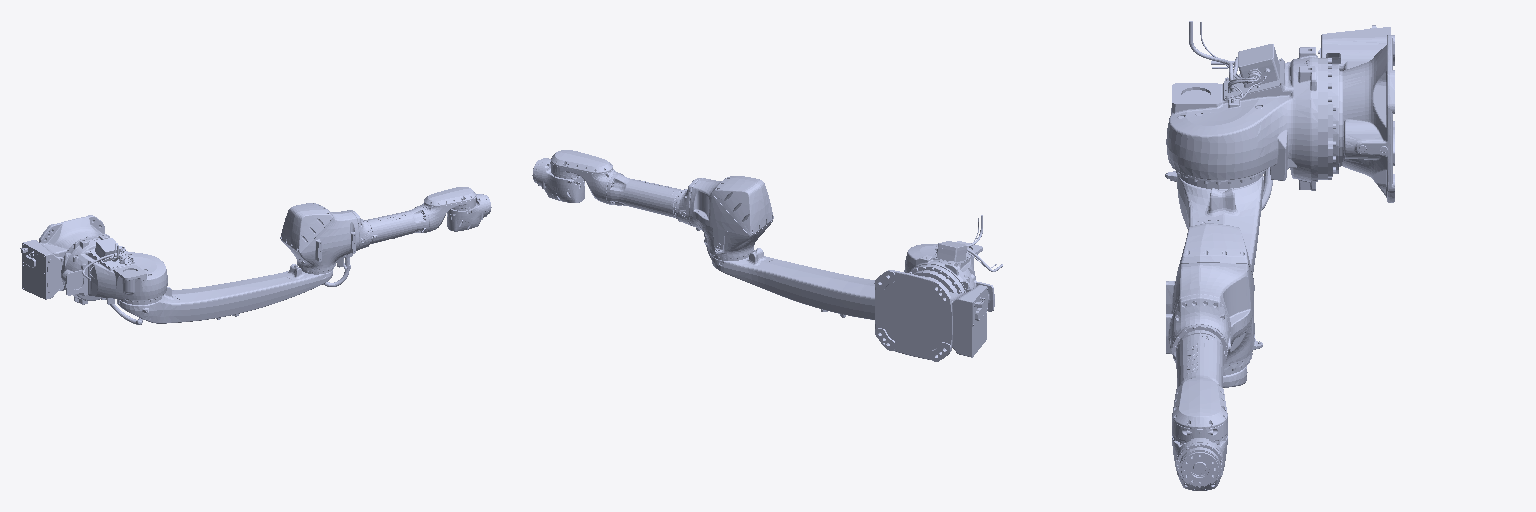
The robot description file, URDF, robot "kr_50_r2500":
<?xml version="1.0" ?>
<!-- =================================================================================== -->
<!-- |    This document was autogenerated by xacro from [local-path]/projects/personal_ws/src/kr_50_r2500/kr_50_r2500_description/urdf/kr_50_r2500_pybullet.xacro | -->
<!-- |    EDITING THIS FILE BY HAND IS NOT RECOMMENDED                                 | -->
<!-- =================================================================================== -->
<!-- It is required to pass the args: robot_name-->
<robot name="kr_50_r2500">
  <!-- -350° -->
  <!--  360°/s -->
  <link name="base_link">
    <inertial>
      <origin rpy="0 0 0" xyz="-0.080585 0.00067592 0.086754"/>
      <mass value="30.385"/>
      <inertia ixx="0.38941" ixy="0.0047083" ixz="0.060696" iyy="0.87424" iyz="-0.00029206" izz="1.0819"/>
    </inertial>
    <visual>
      <origin rpy="0 0 0" xyz="0 0 0"/>
      <geometry>
        <mesh filename="package://kr_50_r2500_description/meshes/base_link.STL"/>
      </geometry>
      <material name="">
        <color rgba="0.79216 0.81961 0.93333 1"/>
      </material>
    </visual>
    <collision>
      <origin rpy="0 0 0" xyz="0 0 0"/>
      <geometry>
        <mesh filename="package://kr_50_r2500_description/meshes/base_link.STL"/>
      </geometry>
    </collision>
  </link>
  <link name="link1">
    <inertial>
      <origin rpy="0 0 0" xyz="0.0600446329714386 0.0116665626627102 0.247062352627269"/>
      <mass value="56.0953515273858"/>
      <inertia ixx="1.7123503270672" ixy="0.020886843872196" ixz="-0.525246219592262" iyy="2.15349859010488" iyz="-0.031415061955379" izz="1.31690706549715"/>
    </inertial>
    <visual>
      <origin rpy="0 0 0" xyz="0 0 0"/>
      <geometry>
        <mesh filename="package://kr_50_r2500_description/meshes/link1.STL"/>
      </geometry>
      <material name="">
        <color rgba="0.792156862745098 0.819607843137255 0.933333333333333 1"/>
      </material>
    </visual>
    <collision>
      <origin rpy="0 0 0" xyz="0 0 0"/>
      <geometry>
        <mesh filename="package://kr_50_r2500_description/meshes/link1.STL"/>
      </geometry>
    </collision>
  </link>
  <joint name="joint1" type="revolute">
    <origin rpy="1.5708 0.009141 0" xyz="0 -0.17 0"/>
    <parent link="base_link"/>
    <child link="link1"/>
    <axis xyz="0 0 -1"/>
    <limit effort="10000" lower="-3.22886" upper="3.22886" velocity="3.05433"/>
  </joint>
  <link name="link2">
    <inertial>
      <origin rpy="0 0 0" xyz="0.0040251350126134 -0.177497207044946 0.578963319749875"/>
      <mass value="35.5942562362571"/>
      <inertia ixx="4.47662495992728" ixy="-0.00203441583192867" ixz="0.0769841500591921" iyy="4.49958249588231" iyz="0.214283202316168" izz="0.238618624180958"/>
    </inertial>
    <visual>
      <origin rpy="0 0 0" xyz="0 0 0"/>
      <geometry>
        <mesh filename="package://kr_50_r2500_description/meshes/link2.STL"/>
      </geometry>
      <material name="">
        <color rgba="0.792156862745098 0.819607843137255 0.933333333333333 1"/>
      </material>
    </visual>
    <collision>
      <origin rpy="0 0 0" xyz="0 0 0"/>
      <geometry>
        <mesh filename="package://kr_50_r2500_description/meshes/link2.STL"/>
      </geometry>
    </collision>
  </link>
  <joint name="joint2" type="revolute">
    <origin rpy="0 1.557055  0" xyz="0.175 -0.074807 0.405"/>
    <parent link="link1"/>
    <child link="link2"/>
    <axis xyz="0 1 0"/>
    <limit effort="10000" lower="-3.05433" upper="1.0472" velocity="2.75762"/>
  </joint>
  <link name="link3">
    <inertial>
      <origin rpy="0 0 0" xyz="0.0305175734183824 0.097105360534718 0.0162382856824868"/>
      <mass value="36.6784876951283"/>
      <inertia ixx="0.563908772434098" ixy="0.0648382829251099" ixz="-0.0822356915818992" iyy="0.7868662787778" iyz="0.00379928707270628" izz="1.01511384262152"/>
    </inertial>
    <visual>
      <origin rpy="0 0 0" xyz="0 0 0"/>
      <geometry>
        <mesh filename="package://kr_50_r2500_description/meshes/link3.STL"/>
      </geometry>
      <material name="">
        <color rgba="0.792156862745098 0.819607843137255 0.933333333333333 1"/>
      </material>
    </visual>
    <collision>
      <origin rpy="0 0 0" xyz="0 0 0"/>
      <geometry>
        <mesh filename="package://kr_50_r2500_description/meshes/link3.STL"/>
      </geometry>
    </collision>
  </link>
  <joint name="joint3" type="revolute">
    <origin rpy="0 -1.557055 0" xyz="0 0 1.29"/>
    <parent link="link2"/>
    <child link="link3"/>
    <axis xyz="0 1 0"/>
    <limit effort="10000" lower="-2.0944" upper="2.96706" velocity="3.05433"/>
  </joint>
  <link name="link4">
    <inertial>
      <origin rpy="0 0 0" xyz="0.400085577392824 0.0280533450779974 -6.01461215805621E-05"/>
      <mass value="15.1542881051753"/>
      <inertia ixx="0.0701060691297577" ixy="-0.0990093812478981" ixz="0.00018489912158269" iyy="0.729933929975417" iyz="-2.55452640777306E-05" izz="0.748398699396793"/>
    </inertial>
    <visual>
      <origin rpy="0 0 0" xyz="0 0 0"/>
      <geometry>
        <mesh filename="package://kr_50_r2500_description/meshes/link4.STL"/>
      </geometry>
      <material name="">
        <color rgba="0.792156862745098 0.819607843137255 0.933333333333333 1"/>
      </material>
    </visual>
    <collision>
      <origin rpy="0 0 0" xyz="0 0 0"/>
      <geometry>
        <mesh filename="package://kr_50_r2500_description/meshes/link4.STL"/>
      </geometry>
    </collision>
  </link>
  <joint name="joint4" type="revolute">
    <origin rpy="0 0 0" xyz="0.32687 0.074807 0.05"/>
    <parent link="link3"/>
    <child link="link4"/>
    <axis xyz="1 0 0"/>
    <limit effort="10000" lower="-3.14159" upper="3.14159" velocity="4.36332"/>
  </joint>
  <link name="link5">
    <inertial>
      <origin rpy="0 0 0" xyz="0.0348166227286741 -0.0333672873060013 -7.86869120463773E-05"/>
      <mass value="5.17490767884354"/>
      <inertia ixx="0.0198943557123769" ixy="-0.00379528838423929" ixz="-3.17734786601442E-05" iyy="0.0325404927644558" iyz="2.0392665049925E-05" izz="0.0334468145607699"/>
    </inertial>
    <visual>
      <origin rpy="0 0 0" xyz="0 0 0"/>
      <geometry>
        <mesh filename="package://kr_50_r2500_description/meshes/link5.STL"/>
      </geometry>
      <material name="">
        <color rgba="0.792156862745098 0.819607843137255 0.933333333333333 1"/>
      </material>
    </visual>
    <collision>
      <origin rpy="0 0 0" xyz="0 0 0"/>
      <geometry>
        <mesh filename="package://kr_50_r2500_description/meshes/link5.STL"/>
      </geometry>
    </collision>
  </link>
  <joint name="joint5" type="revolute">
    <origin rpy="0 -0.0 0" xyz="0.708131634616243 0 0"/>
    <parent link="link4"/>
    <child link="link5"/>
    <axis xyz="0 1 0"/>
    <limit effort="10000" lower="-2.18166" upper="2.18166" velocity="4.36332"/>
  </joint>
  <link name="link6">
    <inertial>
      <origin rpy="0 0 0" xyz="0.0697663509698883 -2.97159715269453E-06 -4.15148219581329E-05"/>
      <mass value="0.362972835401582"/>
      <inertia ixx="0.000809216081686161" ixy="9.97029573660496E-10" ixz="2.41841688721677E-07" iyy="0.000440777200154296" iyz="1.15745872636665E-07" izz="0.000441694717362902"/>
    </inertial>
    <visual>
      <origin rpy="0 0 0" xyz="0 0 0"/>
      <geometry>
        <mesh filename="package://kr_50_r2500_description/meshes/link6.STL"/>
      </geometry>
      <material name="">
        <color rgba="0.792156862745098 0.819607843137255 0.933333333333333 1"/>
      </material>
    </visual>
    <collision>
      <origin rpy="0 0 0" xyz="0 0 0"/>
      <geometry>
        <mesh filename="package://kr_50_r2500_description/meshes/link6.STL"/>
      </geometry>
    </collision>
  </link>
  <joint name="joint6" type="revolute">
    <origin rpy="0 0 0" xyz="0.0966663727881543 0 0"/>
    <parent link="link5"/>
    <child link="link6"/>
    <axis xyz="1 0 0"/>
    <limit effort="10000" lower="-6.10865" upper="6.10865" velocity="6.28319"/>
  </joint>
  <joint name="link6_to_flange" type="fixed">
    <origin rpy="0 1.57079632679 0" xyz="0.07 0 0"/>
    <parent link="link6"/>
    <child link="flange"/>
  </joint>
  <link name="flange">
    <inertial>
      <origin rpy="0 0 0" xyz="0 0 0"/>
      <mass value="0.01"/>
      <inertia ixx="0.0001" ixy="0.0000" ixz="0.0000" iyy="0.0001" iyz="0.0000" izz="0.0001"/>
    </inertial>
  </link>
  <transmission name="tran1">
    <type>transmission_interface/SimpleTransmission</type>
    <joint name="joint1">
      <hardwareInterface>hardware_interface/EffortJointInterface</hardwareInterface>
    </joint>
    <actuator name="motor1">
      <mechanicalReduction>1</mechanicalReduction>
    </actuator>
  </transmission>
  <transmission name="tran2">
    <type>transmission_interface/SimpleTransmission</type>
    <joint name="joint2">
      <hardwareInterface>hardware_interface/EffortJointInterface</hardwareInterface>
    </joint>
    <actuator name="motor2">
      <mechanicalReduction>1</mechanicalReduction>
    </actuator>
  </transmission>
  <transmission name="tran3">
    <type>transmission_interface/SimpleTransmission</type>
    <joint name="joint3">
      <hardwareInterface>hardware_interface/EffortJointInterface</hardwareInterface>
    </joint>
    <actuator name="motor3">
      <mechanicalReduction>1</mechanicalReduction>
    </actuator>
  </transmission>
  <transmission name="tran4">
    <type>transmission_interface/SimpleTransmission</type>
    <joint name="joint4">
      <hardwareInterface>hardware_interface/EffortJointInterface</hardwareInterface>
    </joint>
    <actuator name="motor4">
      <mechanicalReduction>1</mechanicalReduction>
    </actuator>
  </transmission>
  <transmission name="tran5">
    <type>transmission_interface/SimpleTransmission</type>
    <joint name="joint5">
      <hardwareInterface>hardware_interface/EffortJointInterface</hardwareInterface>
    </joint>
    <actuator name="motor5">
      <mechanicalReduction>1</mechanicalReduction>
    </actuator>
  </transmission>
  <transmission name="tran6">
    <type>transmission_interface/SimpleTransmission</type>
    <joint name="joint6">
      <hardwareInterface>hardware_interface/EffortJointInterface</hardwareInterface>
    </joint>
    <actuator name="motor6">
      <mechanicalReduction>1</mechanicalReduction>
    </actuator>
  </transmission>
</robot>

--- What the picture shows (computed from the rendered views, not written in the file) ---
Views: 3 orthographic renders of the robot side by side, from view 1: azimuth 30°, elevation 25°; view 2: azimuth 150°, elevation 25°; view 3: azimuth 270°, elevation 25°.
Robot: kr_50_r2500 — 8 links, 7 joints (6 revolute, 1 fixed); root link base_link; default pose: all joints at 0.
Links seen in each view (by area): view 1: link1, link2, link3, base_link, link4, link5; view 2: base_link, link3, link2, link4, link1, link5; view 3: link1, link3, base_link, link4, link2, link5, link6.
Boxes of the visible links, box(x1,y1,x2,y2) form: link1: box(61, 234, 167, 324); link2: box(117, 264, 332, 323); link3: box(280, 203, 372, 286); base_link: box(20, 215, 104, 299); link4: box(364, 187, 476, 243); link5: box(447, 194, 489, 231); base_link: box(874, 270, 987, 361); link3: box(673, 176, 773, 260); link2: box(711, 248, 874, 319); link4: box(550, 150, 681, 217); link1: box(904, 215, 1002, 311); link5: box(534, 158, 584, 202); link1: box(1166, 21, 1342, 210); link3: box(1166, 223, 1262, 375); base_link: box(1318, 25, 1394, 202); link4: box(1172, 333, 1227, 444); link2: box(1165, 171, 1263, 387); link5: box(1172, 436, 1227, 490); link6: box(1180, 451, 1218, 485).
Size in the robot's own frame: 3.09 by 0.7574 by 0.7137 metres.
7 mesh visuals loaded from 7 distinct referenced files (7 binary STL).